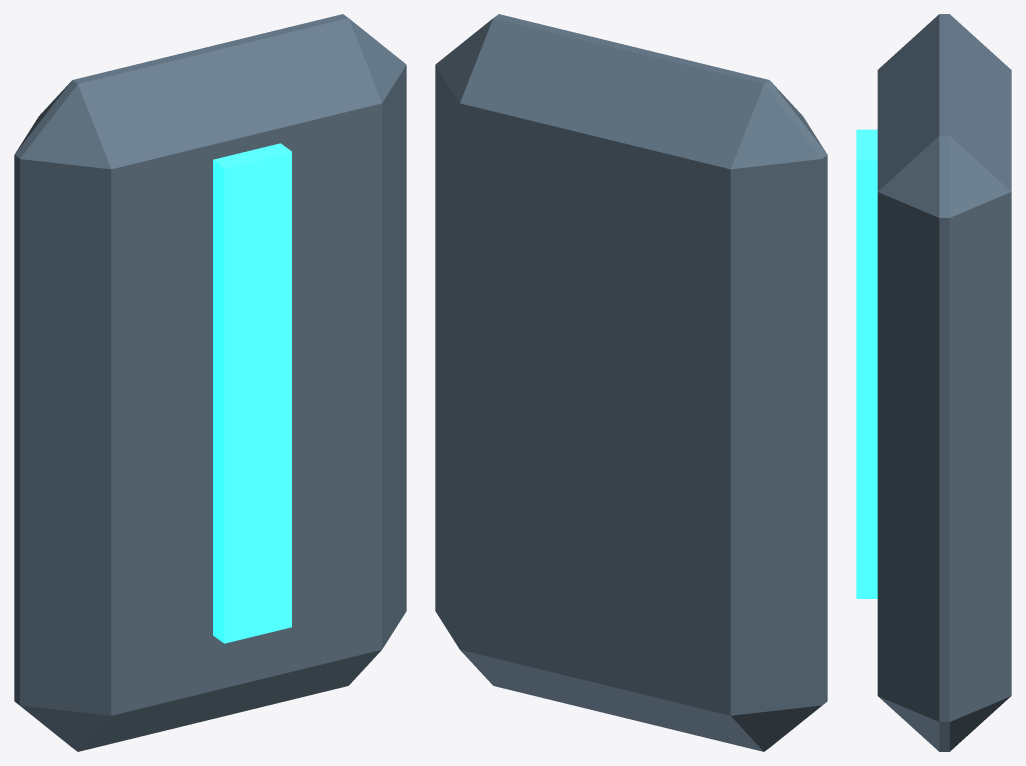
File: SM_NPC_Accessory_003_RiotShield.glb
The picture shows the model from 3 angles, left to right: view 1: azimuth 30°, elevation 25°; view 2: azimuth 150°, elevation 25°; view 3: azimuth 270°, elevation 25°; orthographic projection. The views are drawn at different scales.
Visible parts, largest first — view 1: SM_NPC_Accessory_003_RiotShield; view 2: SM_NPC_Accessory_003_RiotShield; view 3: SM_NPC_Accessory_003_RiotShield.
Boxes of the visible parts, left/top/right/bottom form: SM_NPC_Accessory_003_RiotShield: left=14, top=14, right=406, bottom=751; SM_NPC_Accessory_003_RiotShield: left=435, top=14, right=827, bottom=751; SM_NPC_Accessory_003_RiotShield: left=856, top=14, right=1011, bottom=751.
Size of the model in its own units: 0.4 by 0.66 by 0.1505.
